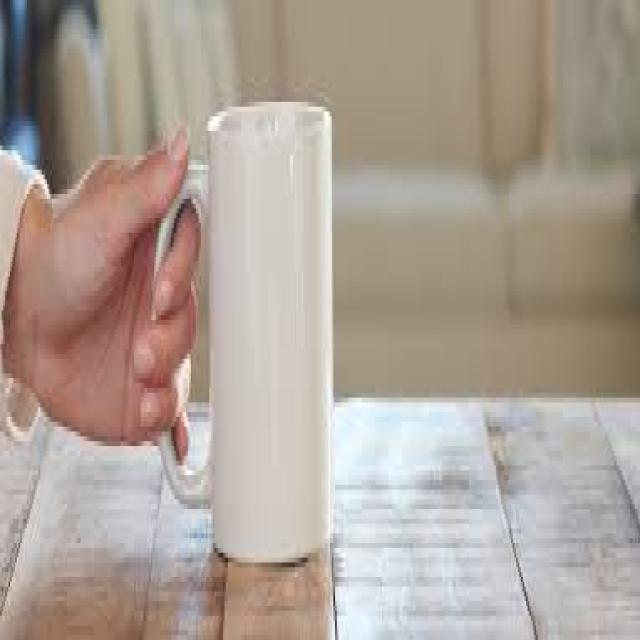taza: (136, 95, 358, 578)
